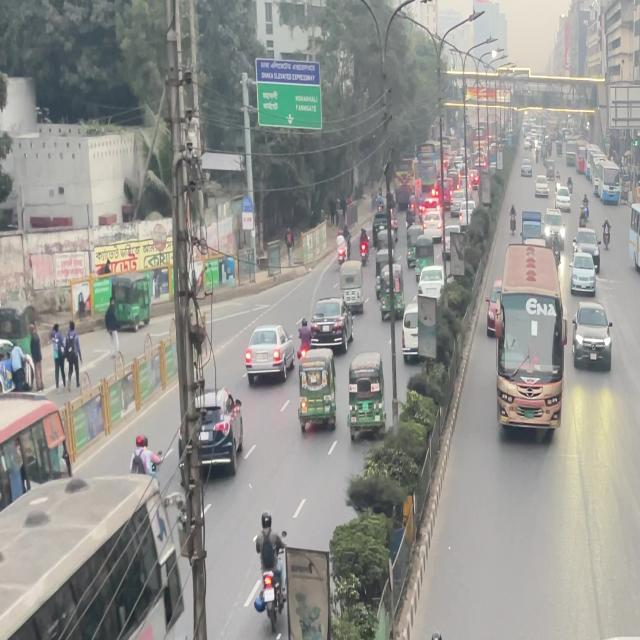bus: (1, 454, 197, 640), (494, 290, 564, 433), (0, 393, 70, 521), (94, 272, 158, 336), (349, 352, 392, 440), (628, 207, 640, 283)
car: (187, 404, 241, 474), (570, 300, 612, 372), (245, 324, 292, 385), (305, 309, 351, 354), (573, 256, 602, 296), (518, 213, 545, 245), (587, 631, 640, 640), (598, 185, 622, 204)
